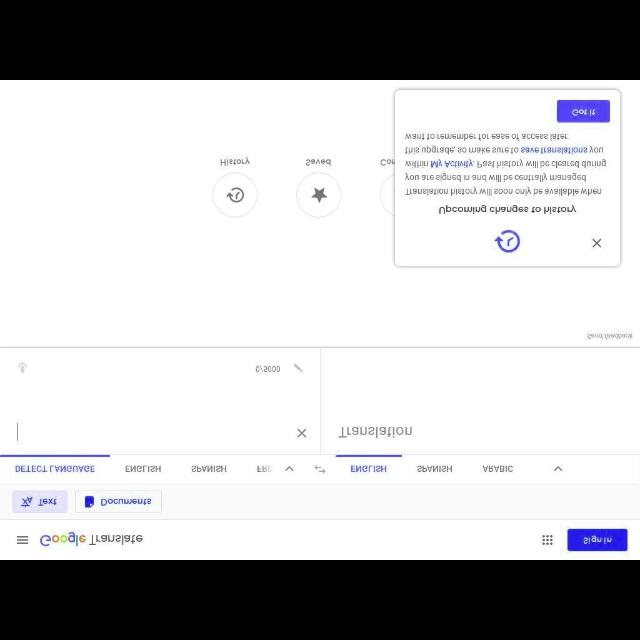button: (212, 172, 258, 218), (296, 172, 342, 218)
icon: (495, 230, 521, 252), (310, 185, 328, 202), (227, 187, 245, 203), (542, 534, 554, 546), (16, 361, 28, 373), (16, 535, 30, 545), (84, 496, 94, 508), (314, 464, 326, 474), (296, 428, 308, 438), (293, 363, 303, 373), (552, 465, 564, 473), (594, 237, 602, 249), (284, 465, 294, 473)
image: (39, 532, 87, 548)
multitab: (13, 462, 563, 474)
spinner: (256, 464, 294, 474)
text: (405, 132, 607, 196), (439, 203, 576, 214), (338, 425, 412, 439), (14, 464, 96, 474), (88, 534, 144, 546), (20, 494, 58, 508), (100, 497, 152, 507), (586, 332, 634, 341), (125, 464, 162, 474), (191, 464, 227, 474), (416, 464, 452, 474), (220, 156, 250, 168), (482, 464, 514, 474), (350, 465, 388, 473), (583, 536, 613, 544), (255, 366, 281, 374), (571, 108, 597, 116), (306, 158, 330, 166), (256, 464, 274, 474)
textbutton: (75, 490, 162, 512), (568, 529, 628, 551), (12, 492, 68, 514), (557, 100, 611, 122)
